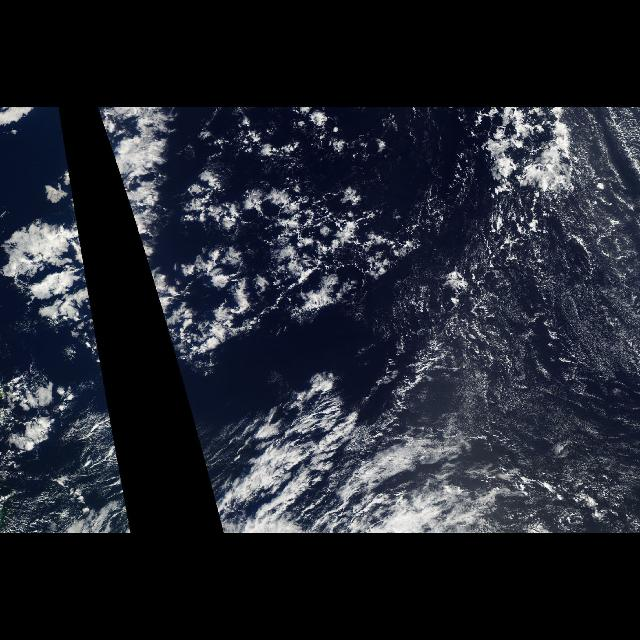Fish: (344, 176, 518, 418)
Sugar: (481, 199, 639, 485)
